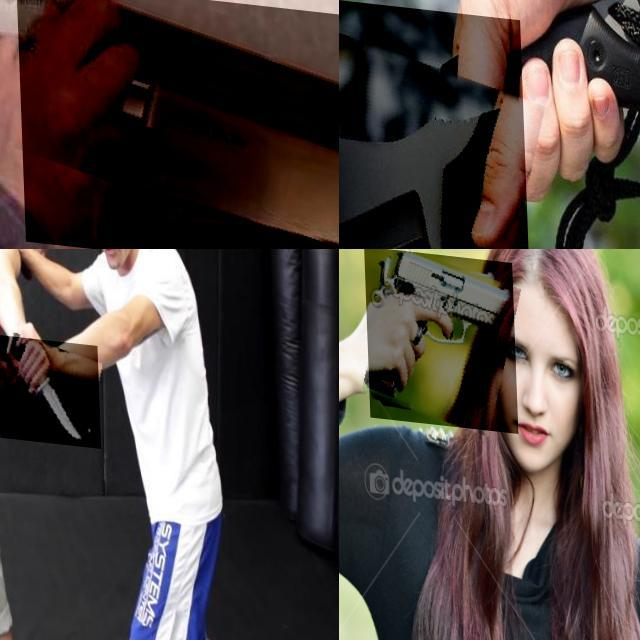-: (14, 0, 339, 249), (339, 0, 585, 249), (0, 329, 98, 440)
gun-knife-thesis - v11 Yolov5 augmented: (363, 249, 516, 424)
